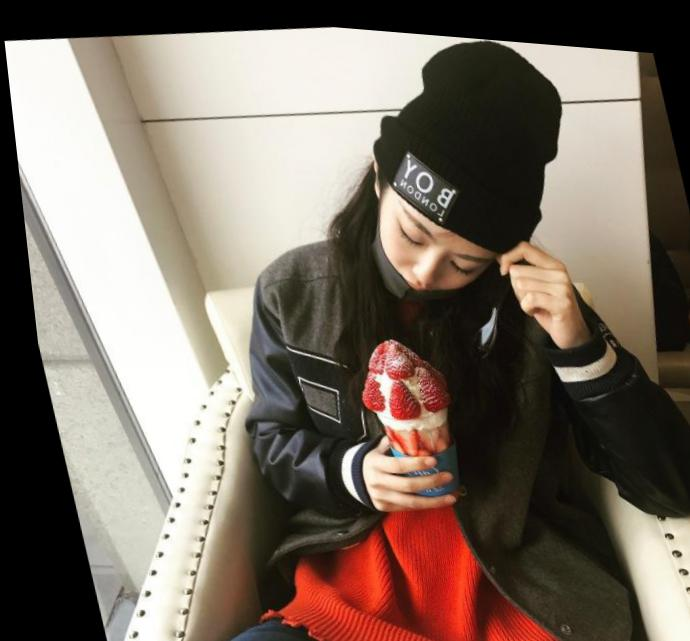WRONG: (360, 172, 495, 311)
